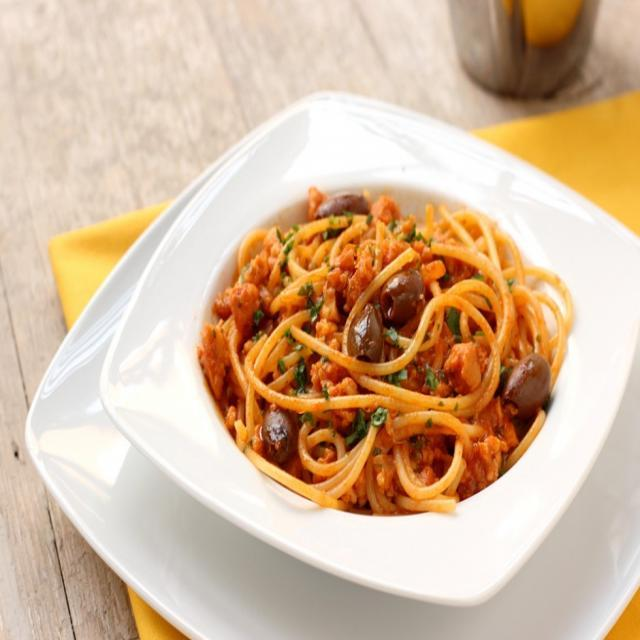Pasta al ragu: (212, 176, 576, 494)
